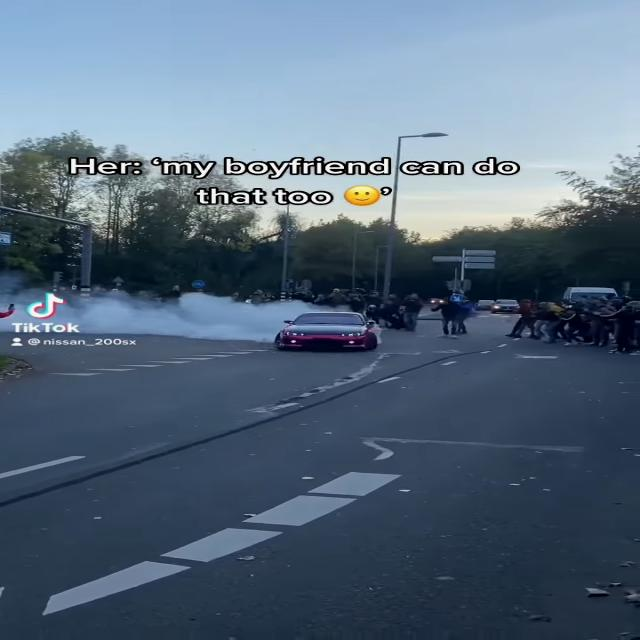car: (278, 310, 377, 354)
